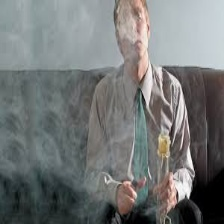smoke: (15, 85, 89, 189)
